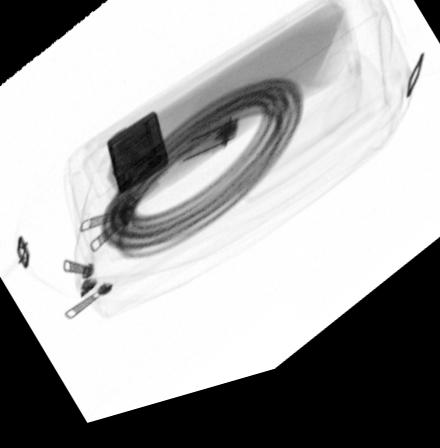Lighter: (106, 120, 169, 203)
